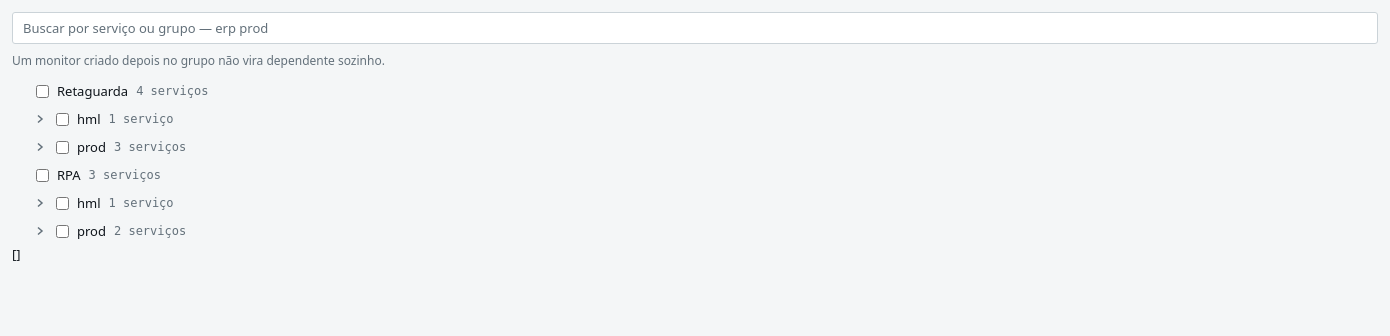
Test: MonitorTree: dependentes › caixa travada não muda pelo clique nem pelo grupo, e diz por quê
Click the button named "Abrir prod, Retaguarda": click(40, 147) [28, 133, 52, 161]
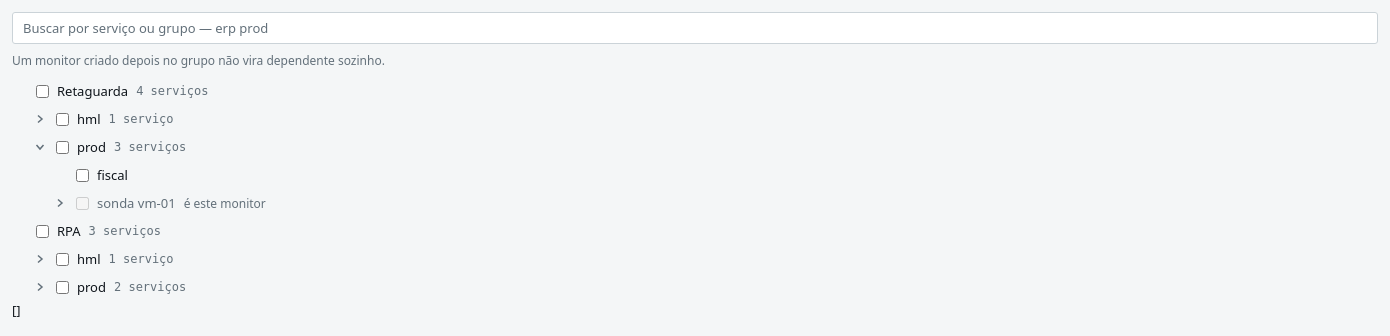
Expected: the checkbox labelled "sonda vm-01 é este monitor" is disabled, [76, 197, 89, 210]
Expected: the label "sonda vm-01 é este monitor" is shown, [75, 194, 266, 221]
Click the checkbox labelled "prod 3 serviços": click(62, 147) [56, 141, 69, 154]
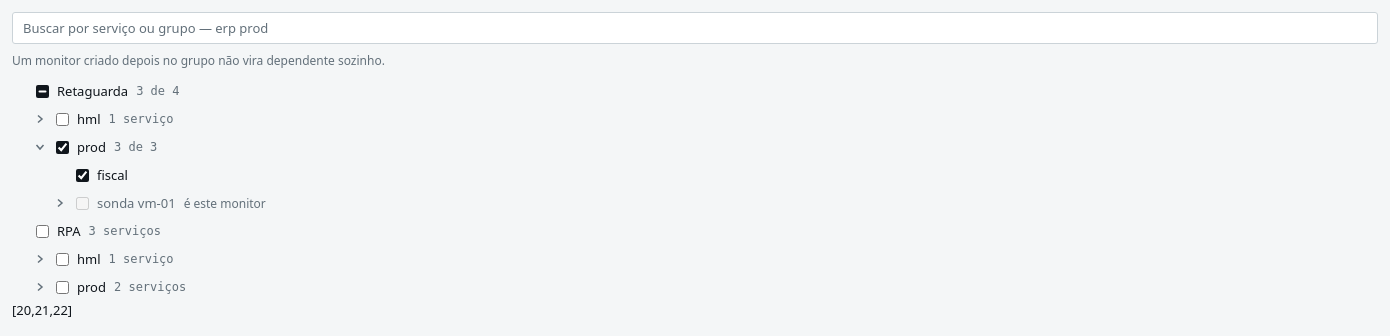
Expected: the checkbox labelled "prod 3 de 3" is checked, [56, 141, 69, 154]
Expected: the text "[20,21,22]" is shown, [12, 301, 72, 319]
